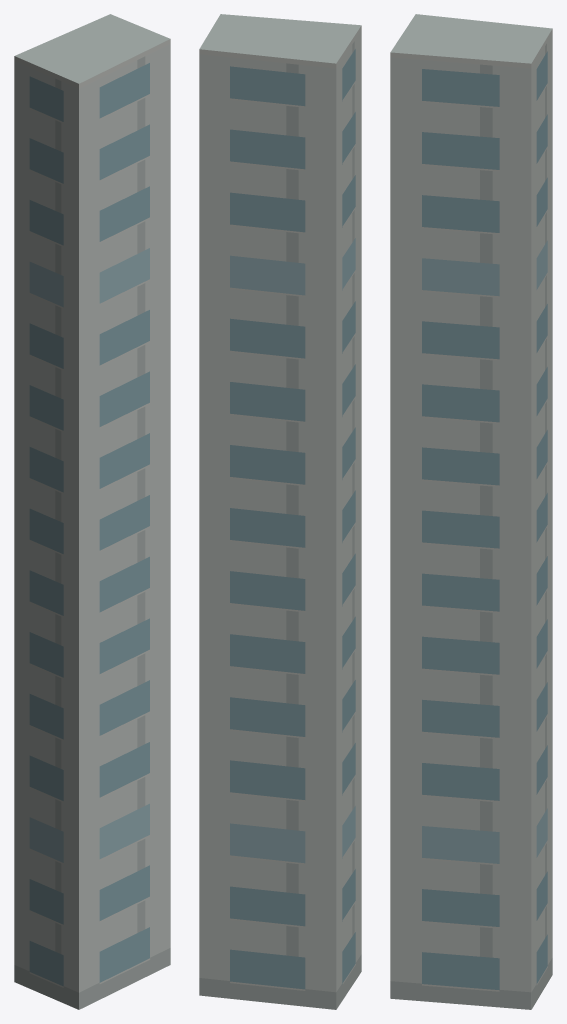
File: survey-upis-32632372.glb
The picture shows the model from 3 angles, left to right: view 1: azimuth 30°, elevation 25°; view 2: azimuth 150°, elevation 25°; view 3: azimuth 330°, elevation 25°; orthographic projection. The views are drawn at different scales.
Visible parts, largest first — view 1: survey-upis-32632372.tmp; view 2: survey-upis-32632372.tmp; view 3: survey-upis-32632372.tmp.
Boxes of the visible parts, x1=… form: survey-upis-32632372.tmp: x1=14, y1=14, x2=170, y2=1009; survey-upis-32632372.tmp: x1=199, y1=14, x2=361, y2=1009; survey-upis-32632372.tmp: x1=390, y1=14, x2=552, y2=1009.
Size of the model in its own units: 6.97 by 45.75 by 5.72.
